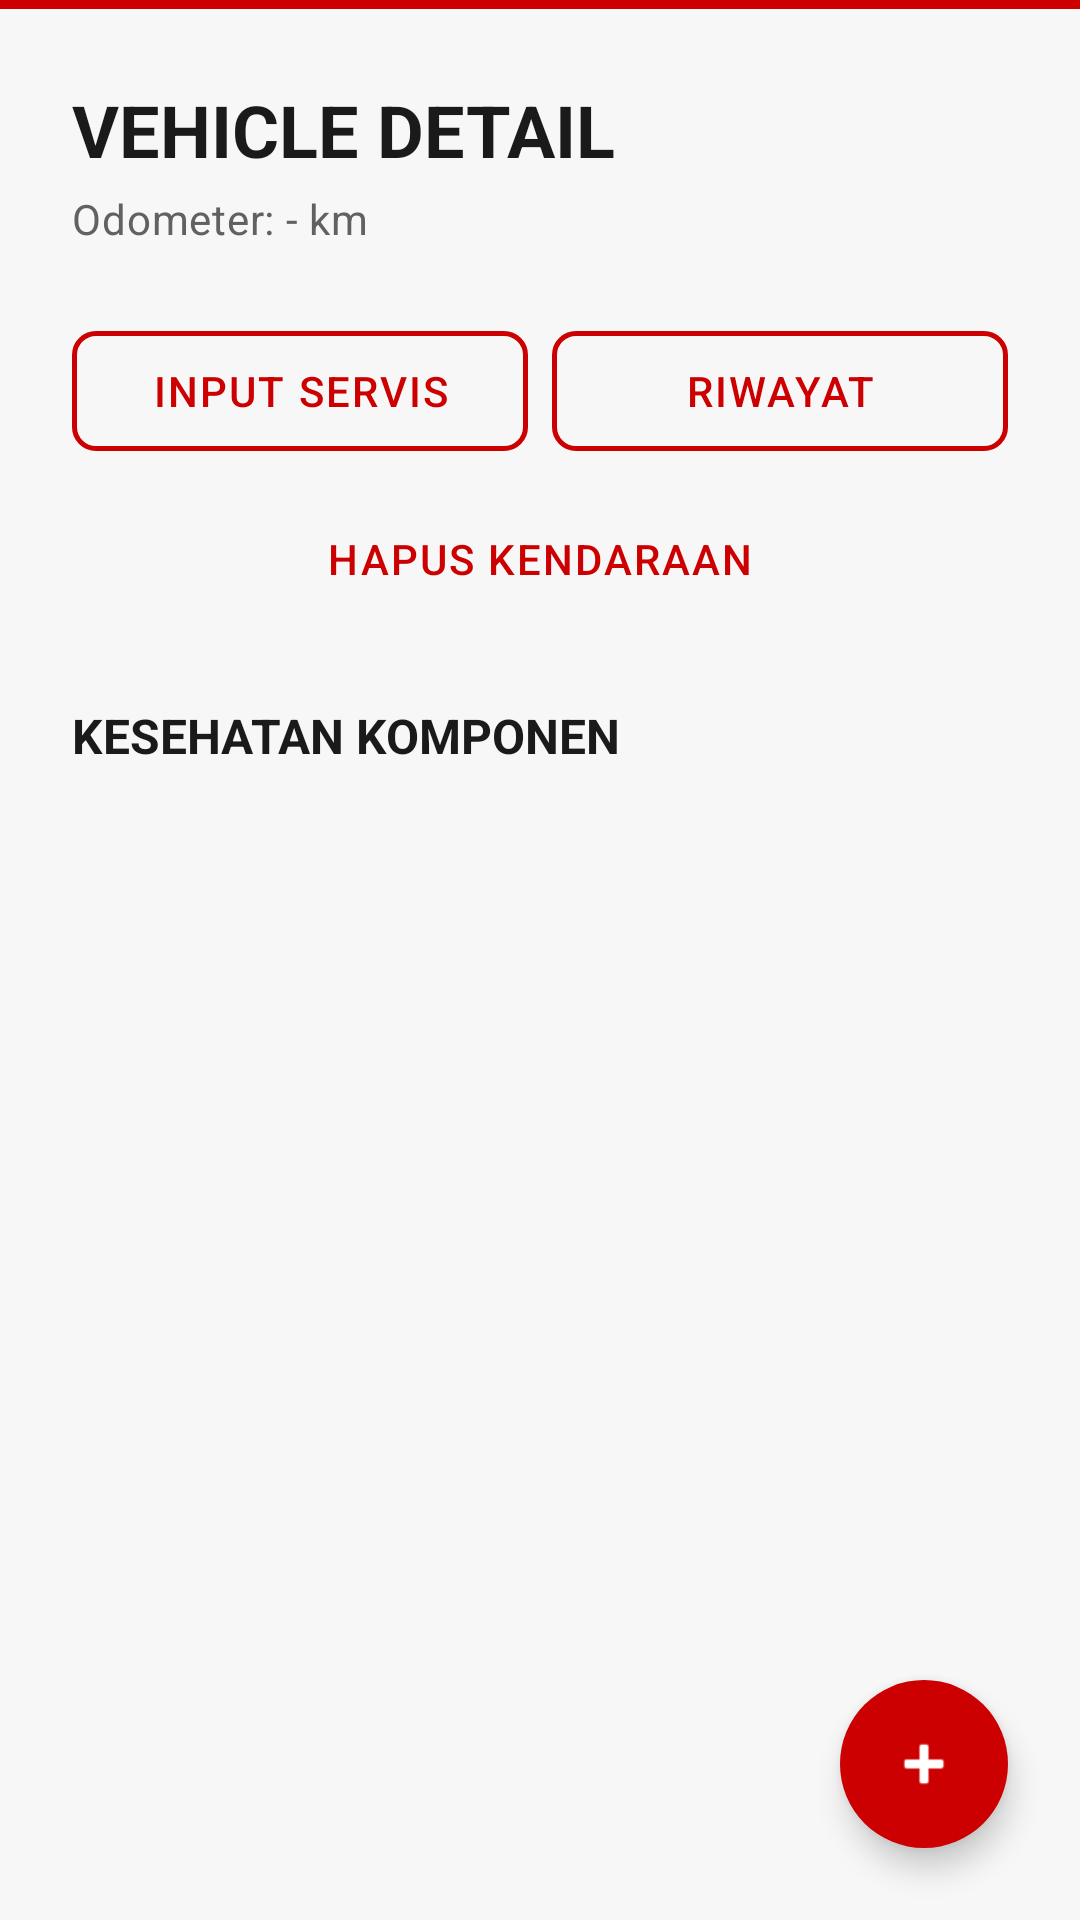

Point at icon controls on the screen. Image size 1080×1920, points as (x=x, y=y).
add: (x=924, y=1764)
